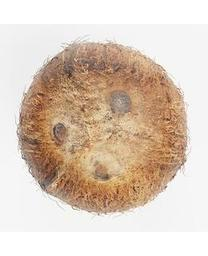coconut: (14, 40, 188, 215)
